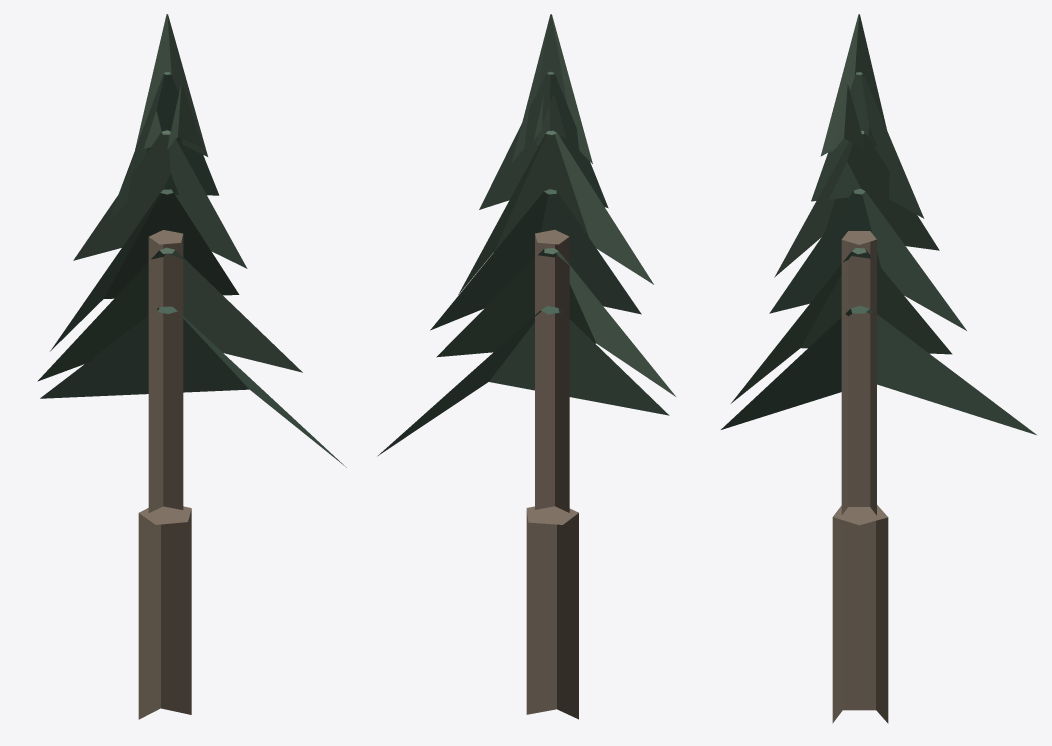
The model's file is tree.sub.masson_pine__winter.glb.
The picture shows the model from 3 angles, left to right: view 1: azimuth 30°, elevation 25°; view 2: azimuth 150°, elevation 25°; view 3: azimuth 270°, elevation 25°; orthographic projection.
Visible parts, largest first — view 1: tree.sub.masson_pine__winter; view 2: tree.sub.masson_pine__winter; view 3: tree.sub.masson_pine__winter.
Boxes of the visible parts, bbox=[...] form: tree.sub.masson_pine__winter: bbox=[37, 14, 346, 719]; tree.sub.masson_pine__winter: bbox=[377, 14, 675, 719]; tree.sub.masson_pine__winter: bbox=[721, 14, 1036, 723].
Size of the model in its own units: 7.66 by 18.78 by 7.66.
